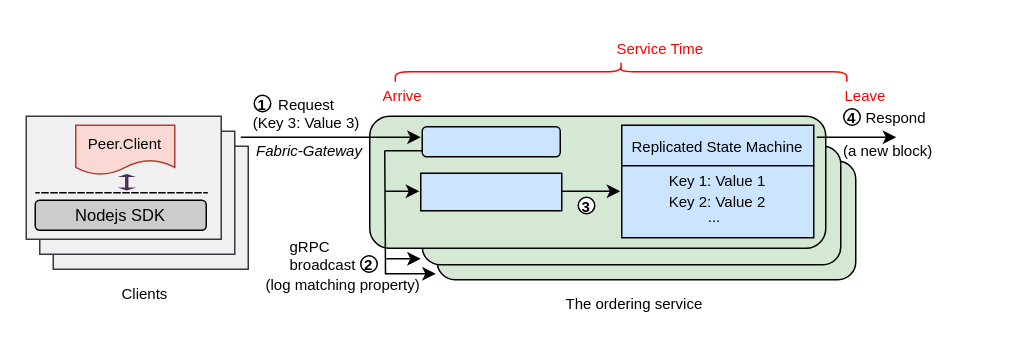
The diagram is 1020 pixels wide and 351 high, and some of its shapes have lost their labels. The shapes that lost their labels are listed below. From the top down, each one's centre as x and y in pixels, then its label:
the point at 490,141: Consensus
the point at 490,191: Replicated WAL
